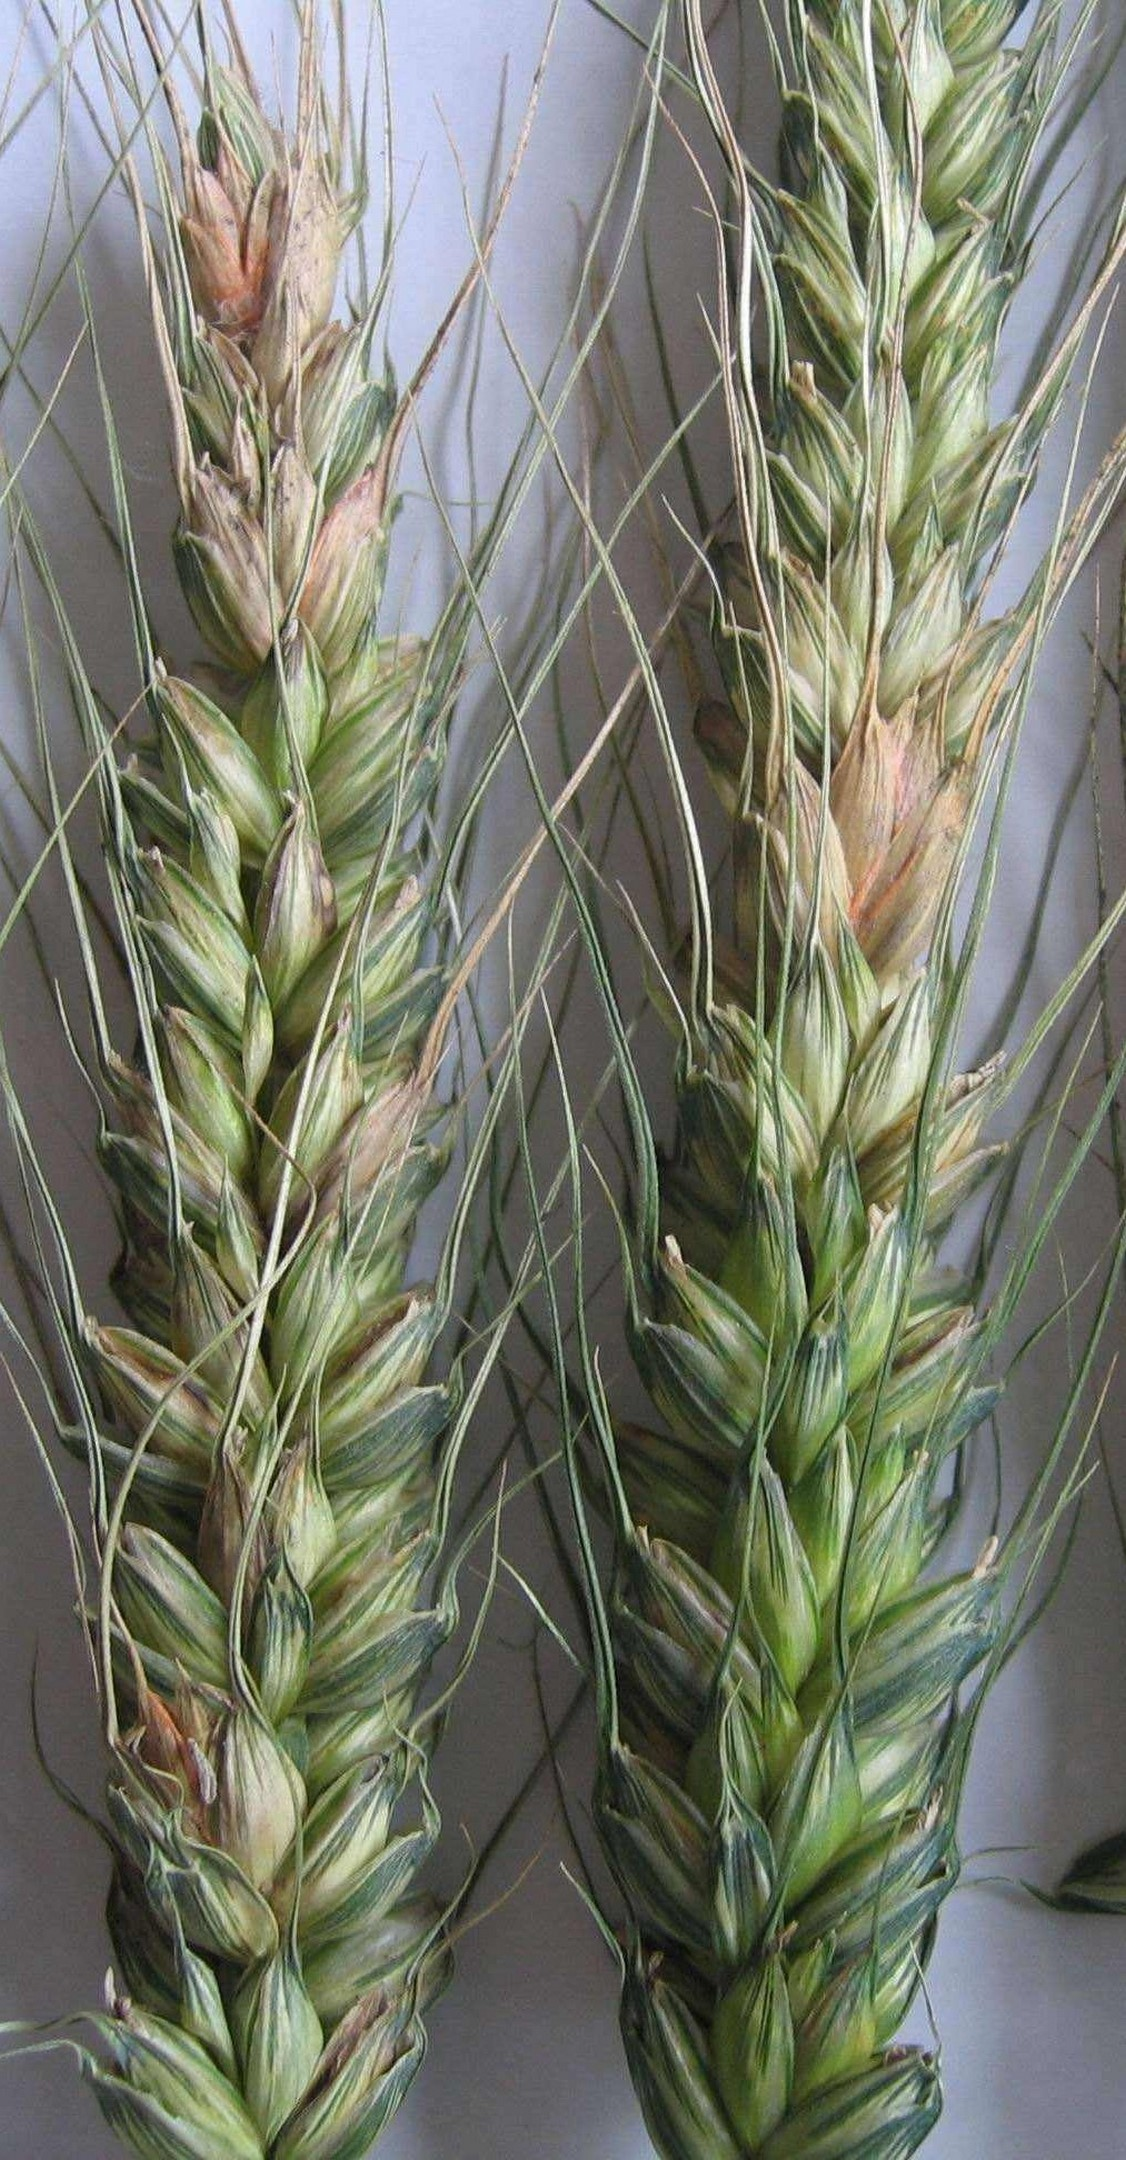Wheat scab: (566, 39, 1037, 2160), (64, 73, 480, 2160)
